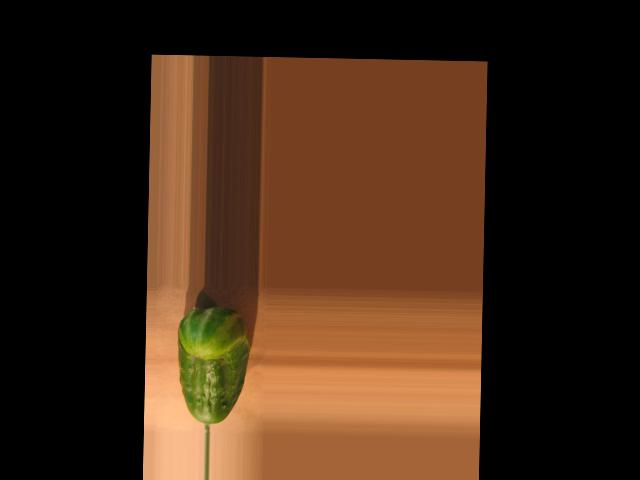cucumber: (175, 306, 249, 425)
